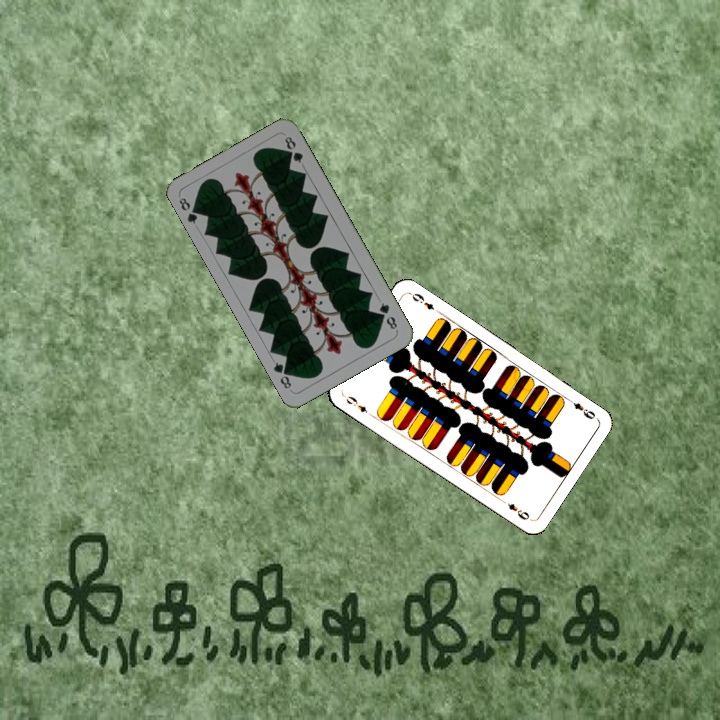E9: (339, 391, 375, 419), (563, 394, 598, 422)
G8: (175, 193, 203, 227), (375, 298, 400, 332)
